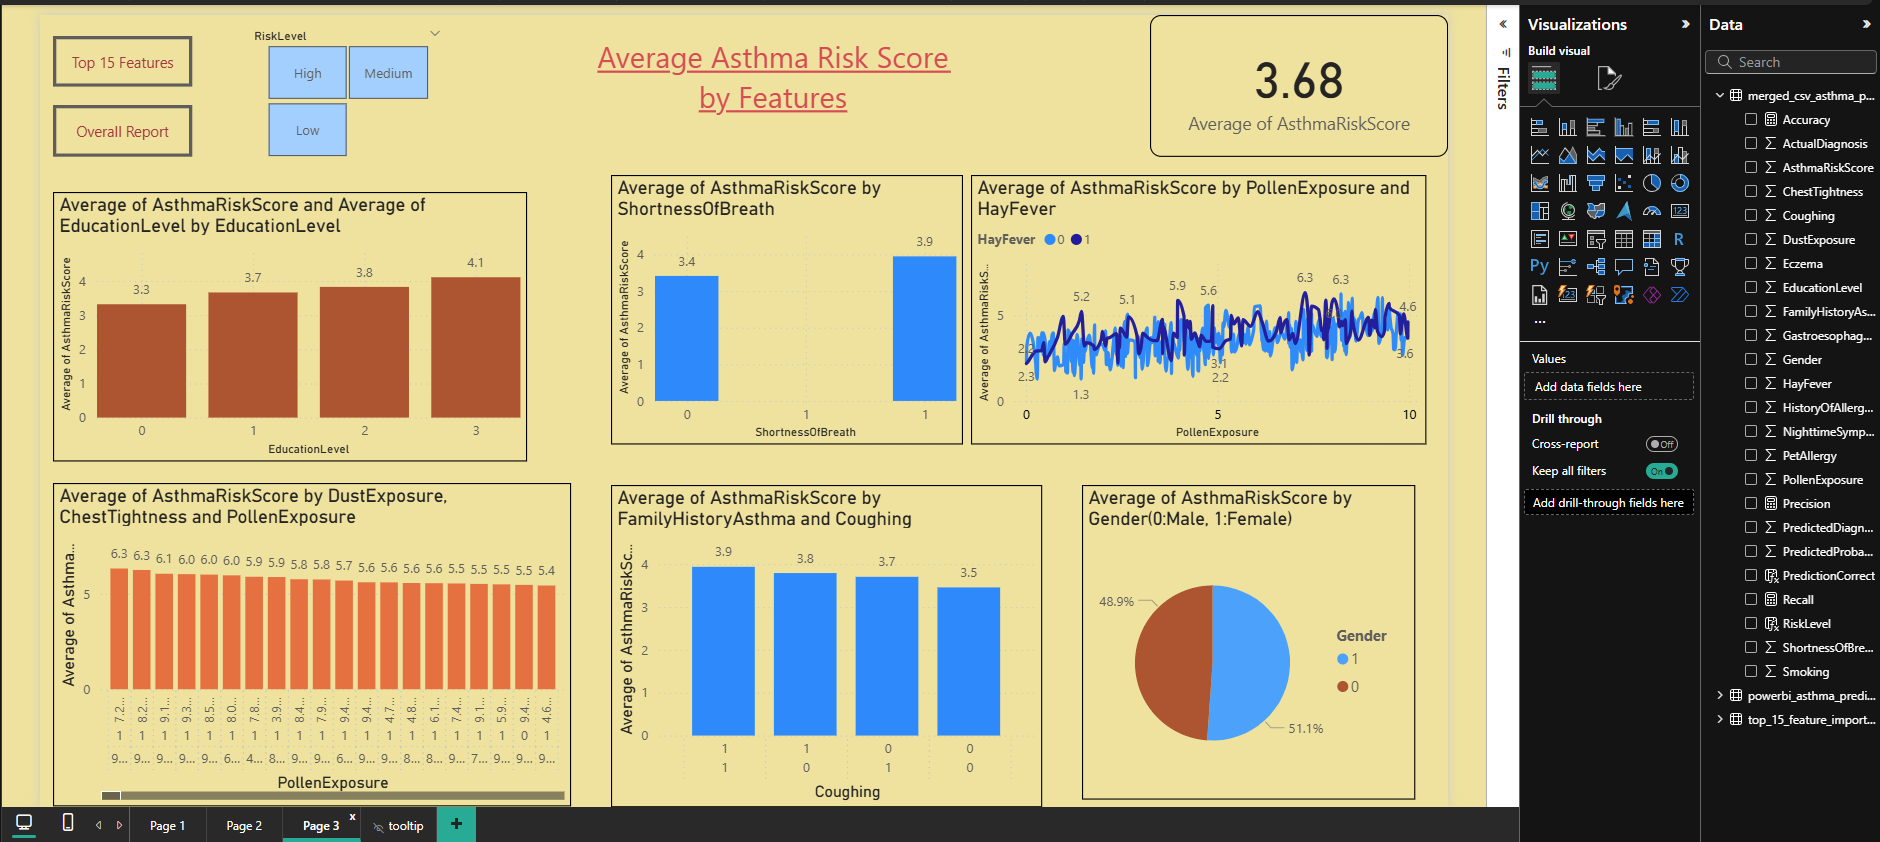

This screenshot's page, from the dashboard's own definition file:
{"tool":"powerbi","page":{"name":"Page 3","canvas":[1280,720],"ordinal":2},"visuals":[{"type":"clusteredColumnChart","fields":{"Y":["Avg(merged_csv_asthma_prediction.AsthmaRiskScore)"],"Category":["merged_csv_asthma_prediction.ShortnessOfBreath"]},"box":[519.3,145.3,320,245.4],"z":0},{"type":"card","fields":{"Values":["Avg(merged_csv_asthma_prediction.AsthmaRiskScore)"]},"box":[1009.1,0,270.9,128.6],"z":1000},{"type":"columnChart","fields":{"Category":["merged_csv_asthma_prediction.DustExposure","merged_csv_asthma_prediction.ChestTightness","merged_csv_asthma_prediction.PollenExposure"],"Y":["Avg(merged_csv_asthma_prediction.AsthmaRiskScore)"]},"box":[11.8,425,471.2,294.5],"z":2000},{"type":"columnChart","fields":{"Category":["merged_csv_asthma_prediction.FamilyHistoryAsthma","merged_csv_asthma_prediction.Coughing"],"Y":["Avg(merged_csv_asthma_prediction.AsthmaRiskScore)"]},"box":[519.4,427,392,292.8],"z":3000},{"type":"lineChart","fields":{"Category":["merged_csv_asthma_prediction.PollenExposure"],"Y":["Avg(merged_csv_asthma_prediction.AsthmaRiskScore)"],"Series":["merged_csv_asthma_prediction.HayFever"]},"box":[846.1,145.3,414.2,245.4],"z":4000},{"type":"pieChart","title":"Average of AsthmaRiskScore by Gender(0:Male, 1:Female)","fields":{"Category":["merged_csv_asthma_prediction.Gender"],"Y":["Avg(merged_csv_asthma_prediction.AsthmaRiskScore)"]},"box":[947.2,427,303.3,285.6],"z":5000},{"type":"textbox","box":[499.6,14.7,332.8,92.3],"z":6000},{"type":"actionButton","box":[11.8,18.7,126.6,46.1],"z":7000},{"type":"actionButton","box":[11.8,81.5,126.6,47.1],"z":8000},{"type":"slicer","fields":{"Values":["merged_csv_asthma_prediction.RiskLevel"]},"box":[182.2,7.2,194.8,128.4],"z":9000},{"type":"clusteredColumnChart","fields":{"Y":["Avg(merged_csv_asthma_prediction.AsthmaRiskScore)"],"Category":["merged_csv_asthma_prediction.EducationLevel"]},"box":[11.7,160.7,430.9,245.1],"z":10000}]}

Visuals, with their boxes on the page's 1280x720 design canvas (x1, y1, x2, y2). These are canvas units, not pixel positions in the 1880x842 screenshot, which may show the page scaled, cropped or inside an application window:
clusteredColumnChart - Avg(merged_csv_asthma_prediction.AsthmaRiskScore) x merged_csv_asthma_prediction.ShortnessOfBreath: left=519, top=145, right=839, bottom=391
card - Avg(merged_csv_asthma_prediction.AsthmaRiskScore): left=1009, top=0, right=1280, bottom=129
columnChart - merged_csv_asthma_prediction.DustExposure x merged_csv_asthma_prediction.ChestTightness: left=12, top=425, right=483, bottom=720
columnChart - merged_csv_asthma_prediction.FamilyHistoryAsthma x merged_csv_asthma_prediction.Coughing: left=519, top=427, right=911, bottom=720
lineChart - merged_csv_asthma_prediction.PollenExposure x Avg(merged_csv_asthma_prediction.AsthmaRiskScore): left=846, top=145, right=1260, bottom=391
"Average of AsthmaRiskScore by Gender(0:Male, 1:Female)" pieChart: left=947, top=427, right=1250, bottom=713
textbox: left=500, top=15, right=832, bottom=107
actionButton: left=12, top=19, right=138, bottom=65
actionButton: left=12, top=82, right=138, bottom=129
slicer - merged_csv_asthma_prediction.RiskLevel: left=182, top=7, right=377, bottom=136
clusteredColumnChart - Avg(merged_csv_asthma_prediction.AsthmaRiskScore) x merged_csv_asthma_prediction.EducationLevel: left=12, top=161, right=443, bottom=406
